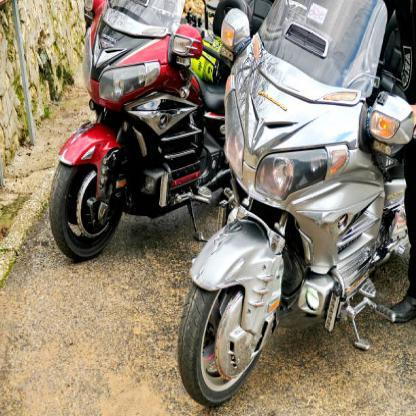Motorcycle: (178, 0, 416, 415), (45, 0, 227, 257)
